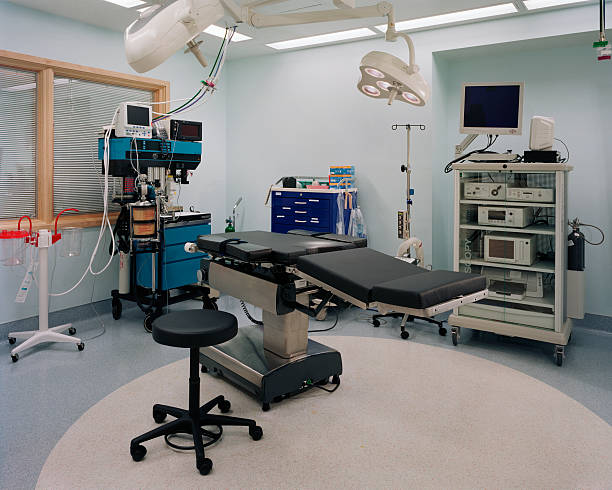bedside_monitor: (460, 81, 523, 135), (118, 102, 157, 139)
breathing_tube: (57, 62, 269, 336)
cabinet: (448, 159, 569, 340)
chair: (130, 309, 262, 474)
handle: (309, 219, 322, 224), (307, 199, 320, 204), (281, 207, 293, 212), (295, 219, 307, 224), (295, 201, 307, 206), (295, 211, 307, 215), (277, 215, 287, 219)
iv_pole: (391, 124, 426, 258)
medical_drawer: (118, 208, 211, 301), (270, 185, 359, 236)
operating_bed: (185, 231, 490, 412)
surgical_light: (122, 1, 222, 72), (355, 51, 431, 106)
